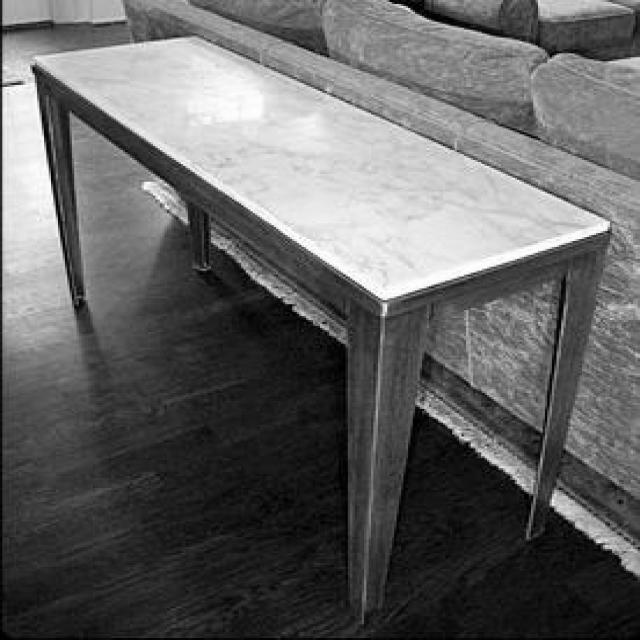table: (31, 29, 616, 622)
